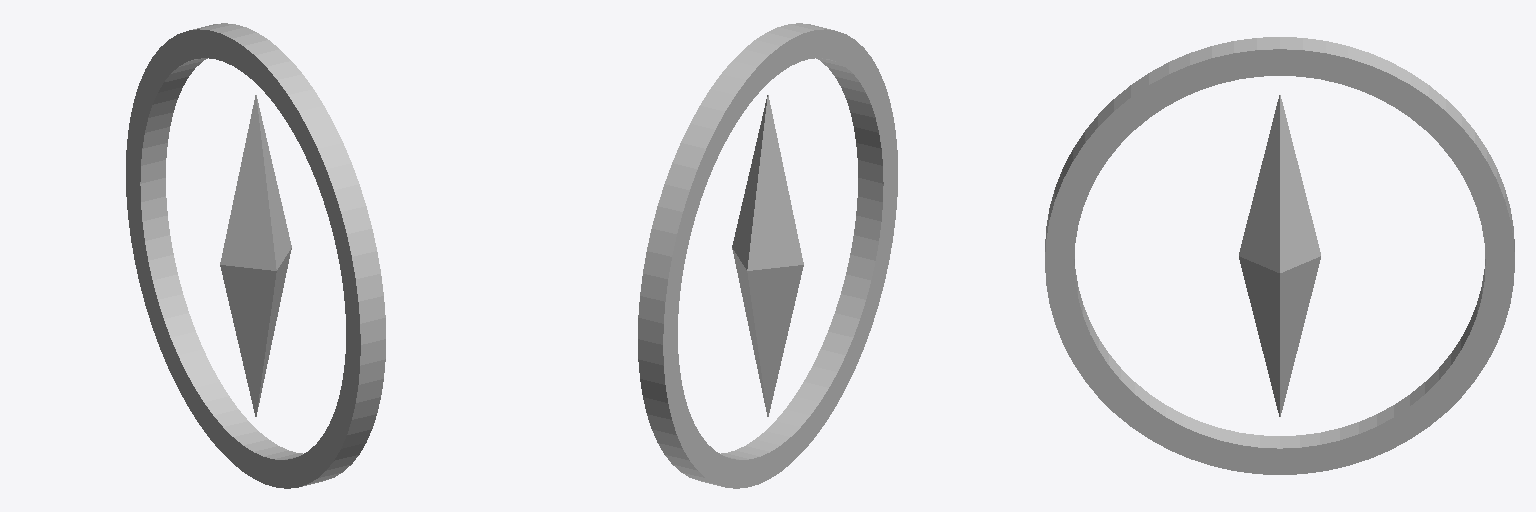
Rendered from NeedlePU.obj.
3 views of the same model, side by side, from view 1: azimuth 30°, elevation 25°; view 2: azimuth 150°, elevation 25°; view 3: azimuth 270°, elevation 25° (orthographic).
Visible parts, largest first — view 1: Cylinder, Needle_Cube; view 2: Cylinder, Needle_Cube; view 3: Cylinder, Needle_Cube.
Boxes of the visible parts, box(x1,y1,x2,y2) form: Cylinder: box(126, 23, 385, 488); Needle_Cube: box(220, 95, 291, 416); Cylinder: box(638, 23, 897, 488); Needle_Cube: box(732, 95, 803, 416); Cylinder: box(1045, 37, 1514, 474); Needle_Cube: box(1239, 95, 1320, 416).
Bounding box in the file's own units: 28.28 × 160 × 160.